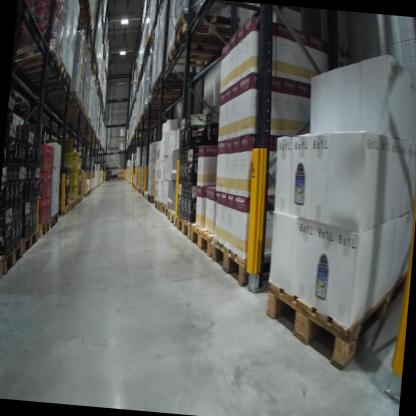pallet: (261, 252, 411, 378), (210, 213, 315, 299), (173, 18, 242, 54), (165, 44, 238, 71), (14, 40, 62, 77), (18, 58, 68, 88), (187, 220, 218, 260), (28, 70, 73, 95), (0, 238, 24, 278), (173, 206, 195, 238), (20, 228, 40, 255), (76, 7, 96, 33), (35, 218, 52, 240), (166, 206, 180, 228), (160, 200, 172, 218), (0, 253, 6, 289), (48, 212, 60, 230), (77, 0, 95, 11), (154, 198, 163, 214), (146, 192, 158, 204), (61, 203, 71, 216), (67, 198, 76, 212), (72, 197, 79, 207), (116, 175, 124, 182), (79, 194, 85, 203), (76, 195, 82, 203), (118, 148, 126, 154), (144, 190, 148, 200), (111, 177, 119, 182), (105, 178, 112, 182)
